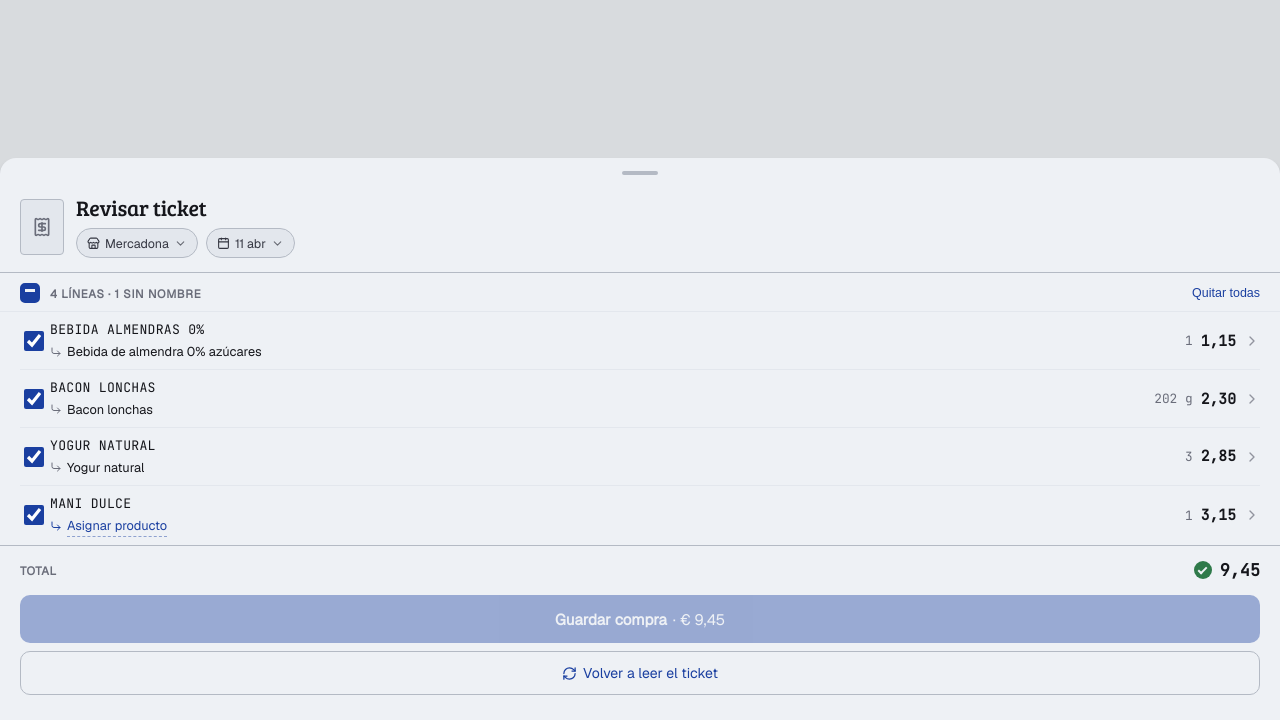
Test: ReceiptScanSheet — resolve sheet (13b) › opens the resolve sub-view with the raw line as fixed truth
Click the button "MANI DULCE Asignar producto 1 3,15". click: (91, 503)
box: [50,486,1260,545]
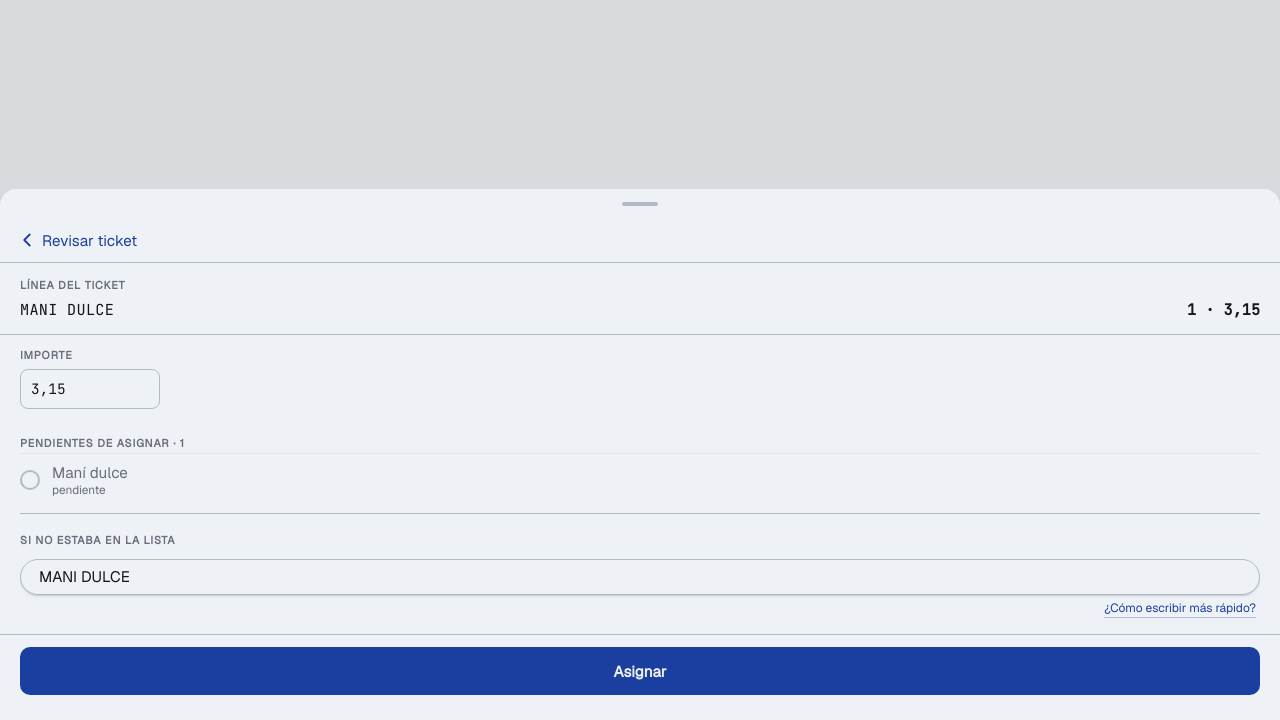
Expected: the button "Revisar ticket" is shown, [12,218,141,262]
Expected: the text "Línea del ticket" is shown, [20,278,126,292]
Expected: the text "1 · 3,15" is shown, [1187,299,1260,322]
